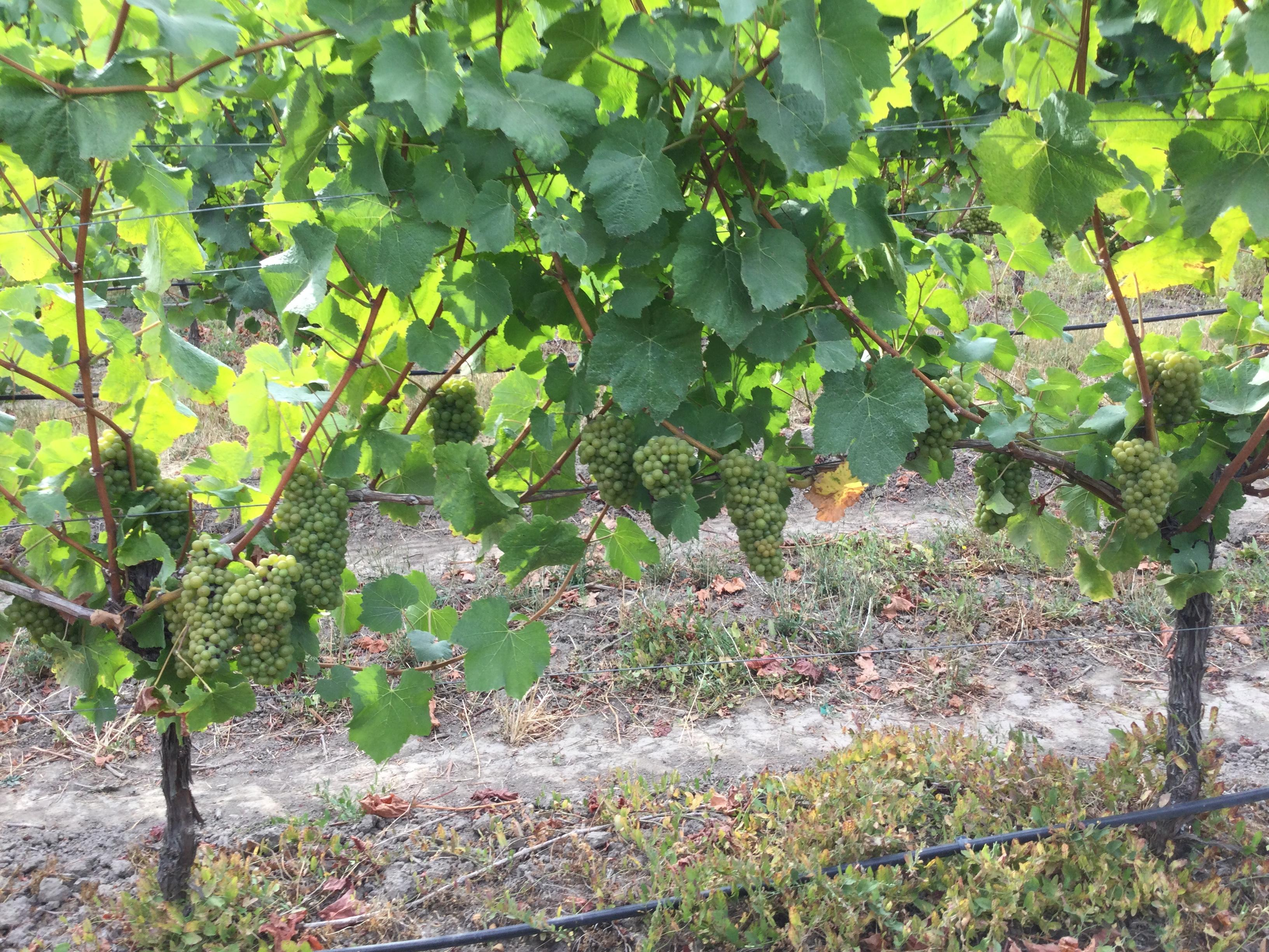leaf: (976, 91, 1121, 234), (463, 48, 597, 166), (814, 357, 927, 484), (1168, 93, 1268, 236), (588, 304, 701, 419), (778, 0, 890, 115), (745, 58, 855, 172), (672, 212, 761, 348), (584, 117, 684, 236), (451, 597, 549, 698), (0, 85, 94, 187), (337, 214, 450, 298), (371, 30, 459, 132), (349, 665, 433, 762), (433, 443, 518, 534), (276, 66, 334, 199), (260, 222, 335, 314), (498, 515, 586, 586), (42, 627, 134, 693), (737, 229, 806, 310), (439, 259, 512, 332), (531, 197, 607, 267), (414, 147, 476, 227), (159, 324, 232, 391), (542, 6, 607, 80), (829, 182, 896, 251), (610, 13, 676, 82), (307, 0, 412, 42), (1007, 506, 1072, 568), (178, 681, 255, 731), (1201, 360, 1268, 415), (359, 573, 420, 633), (604, 516, 659, 581), (468, 180, 518, 251), (669, 400, 743, 446), (743, 312, 808, 363), (806, 311, 858, 371), (406, 319, 459, 373), (1012, 289, 1068, 340), (1156, 569, 1224, 610), (651, 495, 702, 542), (1073, 546, 1114, 601), (116, 529, 171, 565), (73, 686, 117, 729), (313, 664, 354, 702), (407, 630, 451, 663), (353, 700, 359, 708), (24, 493, 30, 500), (1264, 374, 1268, 377), (380, 95, 386, 97), (803, 258, 804, 265), (451, 609, 453, 611), (394, 34, 397, 35), (442, 34, 443, 35), (456, 614, 456, 618), (997, 236, 998, 236)
